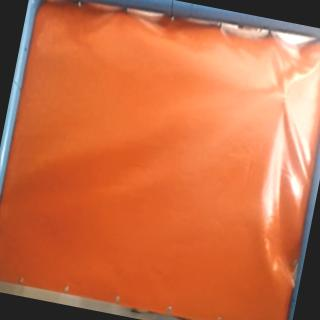Hit-hRxx: (276, 89, 292, 104)
